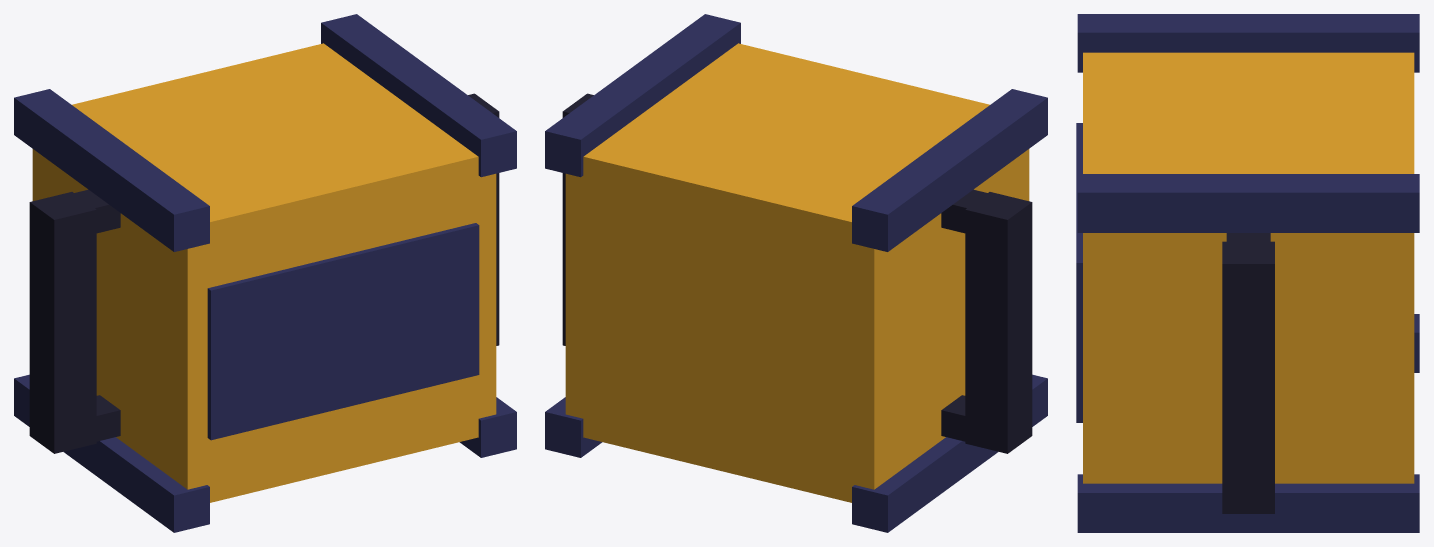
Rendered from cargo_box.lod1.glb.
3 views of the same model, side by side, from view 1: azimuth 30°, elevation 25°; view 2: azimuth 150°, elevation 25°; view 3: azimuth 270°, elevation 25° (orthographic). The views are drawn at different scales.
Visible parts, largest first — view 1: item.cargo_box.body; view 2: item.cargo_box.body; view 3: item.cargo_box.body.
Boxes of the visible parts, bbox=[...] form: item.cargo_box.body: bbox=[14, 14, 516, 532]; item.cargo_box.body: bbox=[545, 14, 1047, 532]; item.cargo_box.body: bbox=[1076, 14, 1419, 532].
Bounding box in the file's own units: 0.6219 × 0.425 × 0.3891.
